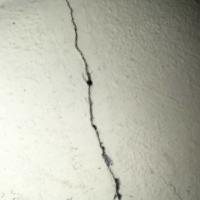crack: (55, 0, 128, 199)
